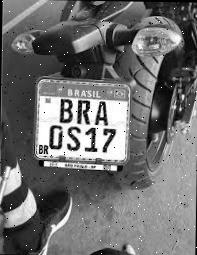placa_mercosul: (34, 76, 129, 169)
